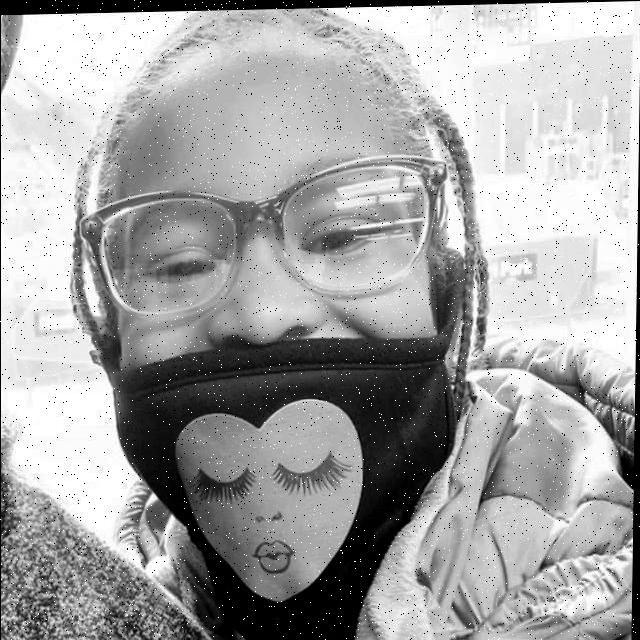hairnet: (118, 275, 444, 499)
